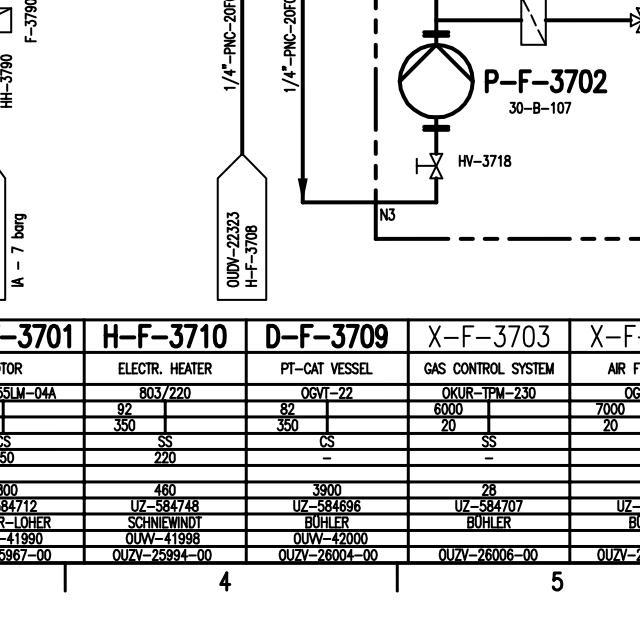HV: (410, 149, 446, 183)
P: (396, 37, 476, 121)
